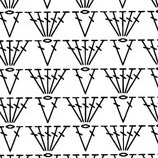enseble_chain: (3, 93, 39, 130), (42, 63, 77, 101), (118, 120, 152, 158), (78, 93, 113, 129), (42, 7, 75, 44), (117, 7, 150, 44), (3, 36, 37, 71), (79, 35, 112, 70), (21, 63, 52, 100), (98, 5, 128, 42), (44, 122, 75, 157), (38, 94, 69, 128), (22, 120, 51, 156), (113, 94, 144, 127), (99, 64, 128, 98), (114, 37, 143, 70), (99, 121, 127, 155), (74, 9, 103, 40), (40, 38, 68, 69), (0, 10, 28, 41), (26, 8, 51, 42), (77, 67, 104, 98), (64, 36, 89, 69), (135, 34, 158, 69), (106, 94, 130, 126), (79, 124, 104, 154), (4, 124, 28, 155), (136, 94, 158, 126), (0, 39, 15, 69), (115, 68, 132, 94), (116, 10, 132, 37), (0, 96, 14, 125)
fan: (97, 122, 126, 157), (65, 93, 89, 126), (69, 123, 92, 155), (140, 35, 158, 68), (35, 68, 52, 97), (77, 39, 94, 66), (77, 96, 94, 123), (2, 97, 19, 124), (3, 40, 18, 67), (42, 124, 57, 151)
